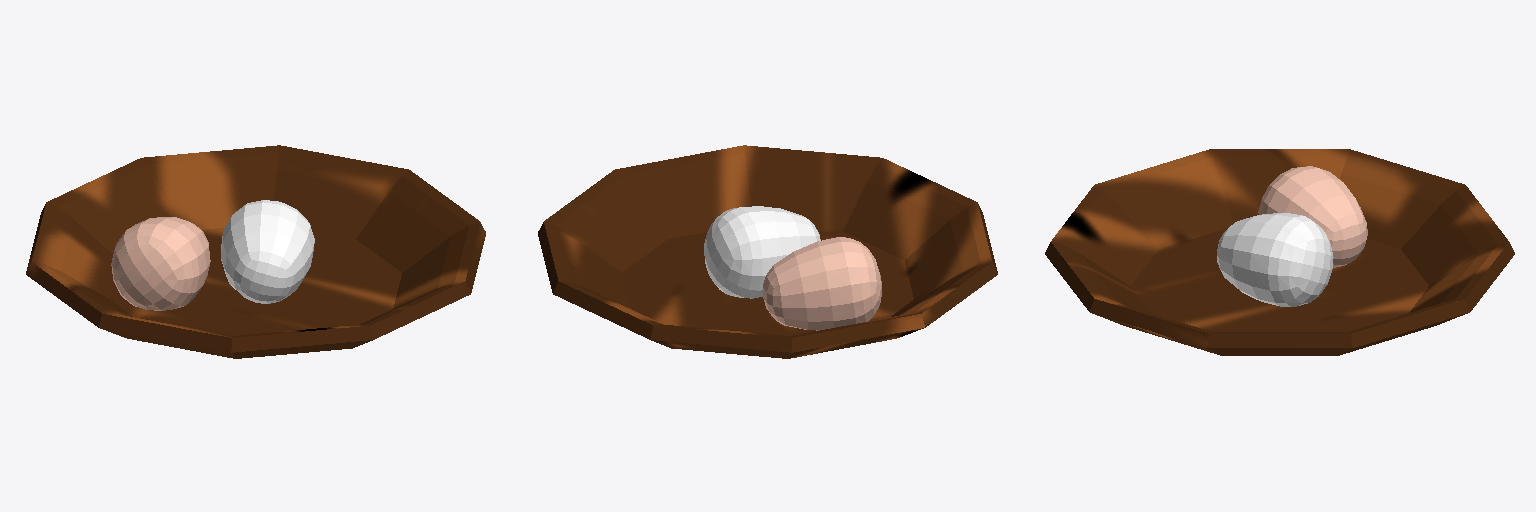
3 views of the same model, side by side, from view 1: azimuth 30°, elevation 25°; view 2: azimuth 150°, elevation 25°; view 3: azimuth 270°, elevation 25° (orthographic).
Parts seen in each view (by area): view 1: Egg_Whole_Cube.001; view 2: Egg_Whole_Cube.001; view 3: Egg_Whole_Cube.001.
Boxes of the visible parts, x1=… form: Egg_Whole_Cube.001: x1=26, y1=145, x2=485, y2=358; Egg_Whole_Cube.001: x1=538, y1=145, x2=997, y2=358; Egg_Whole_Cube.001: x1=1045, y1=149, x2=1514, y2=355.
Size of the model in its own units: 1.74 by 0.3867 by 1.83.
1 materials, 1 textured.